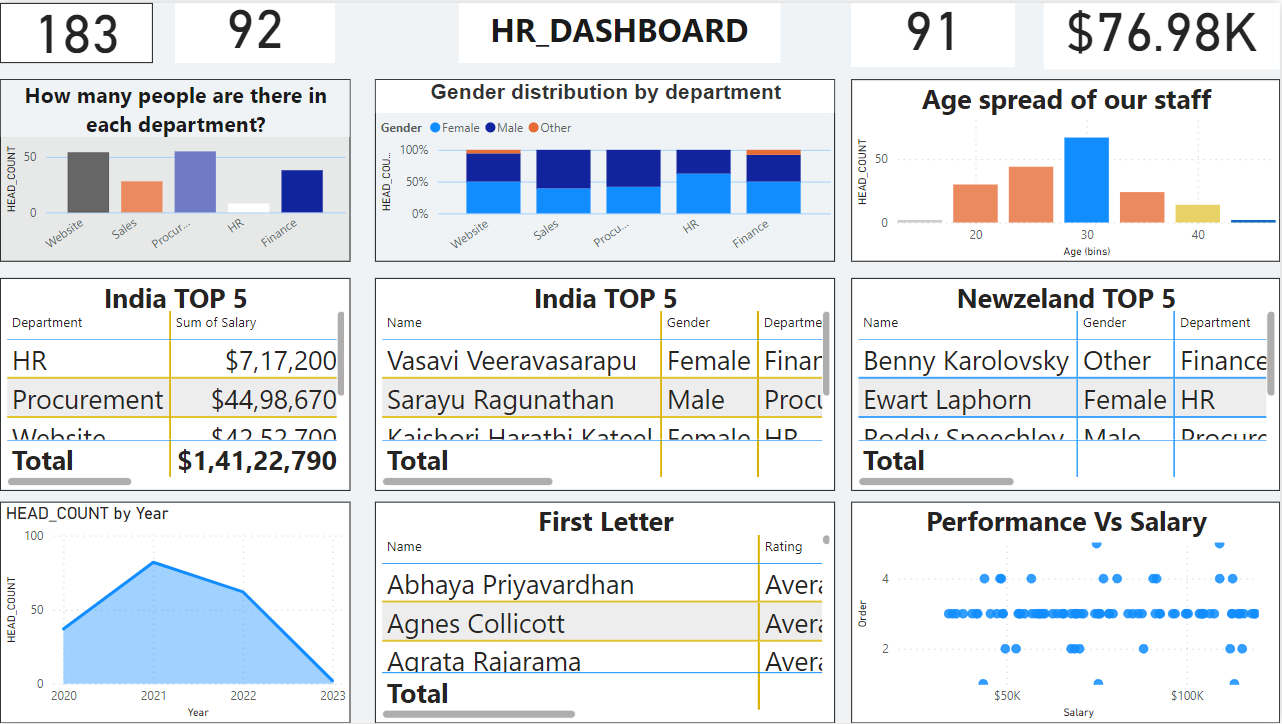

This screenshot's page, from the dashboard's own definition file:
{"tool":"powerbi","page":{"name":"Dashboard","canvas":[1280,720],"ordinal":11},"visuals":[{"type":"columnChart","title":"How many people are there in each department?","fields":{"Category":["Hr.Department"],"Y":["Hr.HEAD_COUNT"]},"box":[0,76.2,350,182.5],"z":0},{"type":"textbox","box":[458.8,0,321.2,60],"z":1000},{"type":"hundredPercentStackedColumnChart","title":"Gender distribution by department","fields":{"Category":["Hr.Department"],"Y":["Hr.HEAD_COUNT"],"Series":["Hr.Gender"]},"box":[375,76.2,460,182.5],"z":1001},{"type":"clusteredColumnChart","title":"Age spread of our staff","fields":{"Category":["Hr.Age (bins)"],"Y":["Hr.HEAD_COUNT"]},"box":[851.2,76.2,428.8,182.5],"z":1003},{"type":"tableEx","title":"Dept Wise Salary","fields":{"Values":["Hr.Department","Sum(Hr.Salary)","Hr.MIN_SALARY","Hr.MAX_SALARY","Hr.AVG_SALARY"]},"box":[0,275,350,212.5],"z":1004},{"type":"tableEx","title":"India TOP 5","fields":{"Values":["Hr.Name","Hr.Gender","Hr.Department","Hr.Country","Hr.Salary","Hr.MIN_SALARY","Hr.MAX_SALARY","Hr.AVG_SALARY"]},"box":[375,275,460,212.5],"z":1005},{"type":"tableEx","title":"Newzeland TOP 5","fields":{"Values":["Hr.Name","Hr.Gender","Hr.Department","Hr.Country","Hr.Salary","Hr.MIN_SALARY","Hr.MAX_SALARY","Hr.AVG_SALARY"]},"box":[851.2,275,428.8,212.5],"z":1006},{"type":"areaChart","fields":{"Y":["Hr.HEAD_COUNT"],"Category":["Hr.Date Joined.Variation.Date Hierarchy.Year"]},"box":[0,498.8,350,221.2],"z":1007},{"type":"tableEx","title":"First Letter","fields":{"Values":["Hr.Name","Hr.Rating","Hr.Department","Sum(Hr.Salary)","Hr.HEAD_COUNT"]},"box":[375,498.8,460,221.2],"z":1008},{"type":"scatterChart","title":"Performance Vs Salary","fields":{"X":["Hr.Salary"],"Y":["Field_Order.Order"]},"box":[851.2,498.8,428.8,221.2],"z":1009},{"type":"card","fields":{"Values":["Hr.HEAD_COUNT"]},"box":[0,0,118.8,60],"z":1010},{"type":"card","fields":{"Values":["Hr.HEAD_COUNT"]},"box":[121.2,0,107.5,60],"z":1011},{"type":"card","fields":{"Values":["Hr.HEAD_COUNT"]},"box":[851.2,0,163.8,60],"z":1012},{"type":"card","fields":{"Values":["Hr.AVG_SALARY"]},"box":[1043.8,0,236.2,60],"z":1013},{"type":"card","fields":{"Values":["Hr.AVG_SALARY"]},"box":[241.2,0,203.8,60],"z":1014}]}

Visuals, with their boxes in screenshot pixels (x1, y1, x2, y2), scaled from the page's 1280x720 canvas onto the 1282x724 screenshot:
"How many people are there in each department?" columnChart: 0,77,351,260
textbox: 460,0,781,60
"Gender distribution by department" hundredPercentStackedColumnChart: 376,77,836,260
"Age spread of our staff" clusteredColumnChart: 853,77,1281,260
"Dept Wise Salary" tableEx: 0,277,351,490
"India TOP 5" tableEx: 376,277,836,490
"Newzeland TOP 5" tableEx: 853,277,1281,490
areaChart - Hr.HEAD_COUNT x Hr.Date Joined.Variation.Date Hierarchy.Year: 0,502,351,723
"First Letter" tableEx: 376,502,836,723
"Performance Vs Salary" scatterChart: 853,502,1281,723
card - Hr.HEAD_COUNT: 0,0,119,60
card - Hr.HEAD_COUNT: 121,0,229,60
card - Hr.HEAD_COUNT: 853,0,1017,60
card - Hr.AVG_SALARY: 1045,0,1281,60
card - Hr.AVG_SALARY: 242,0,446,60
